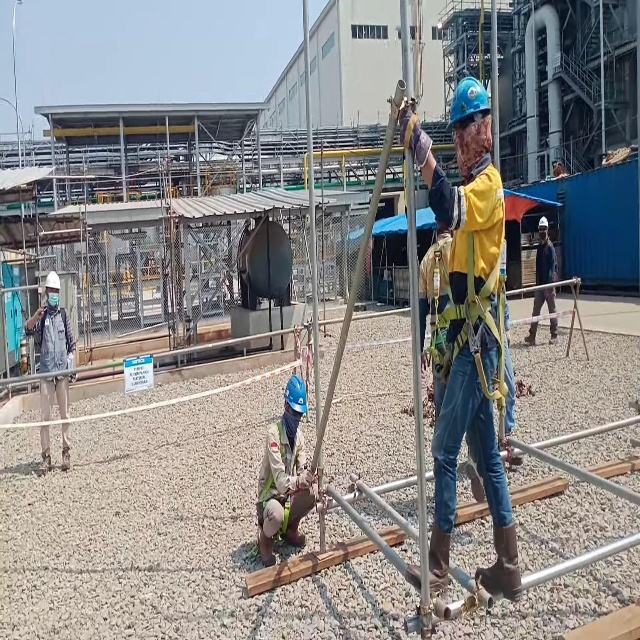Arnes_seguridad: (439, 223, 510, 421), (253, 417, 298, 538), (426, 229, 454, 378)
